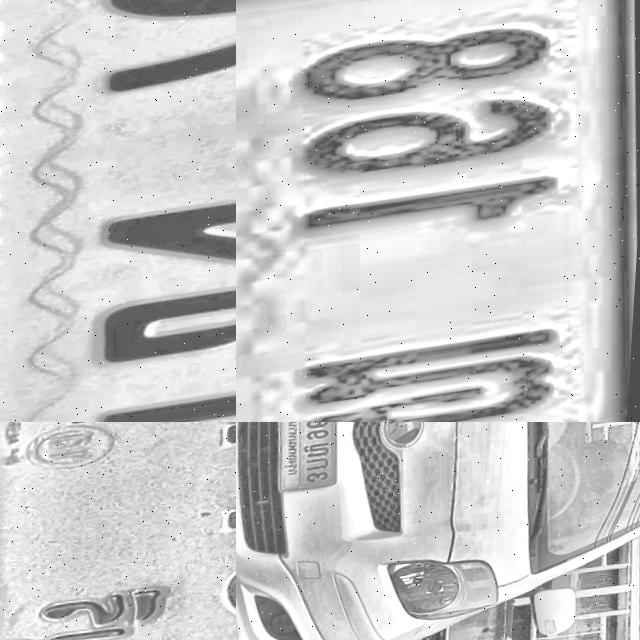license-plate: (236, 0, 640, 422), (0, 0, 236, 422), (0, 422, 236, 640), (272, 422, 346, 499)
